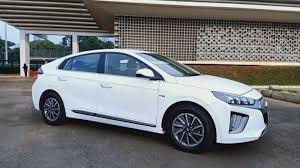mobil: (32, 42, 271, 155)
